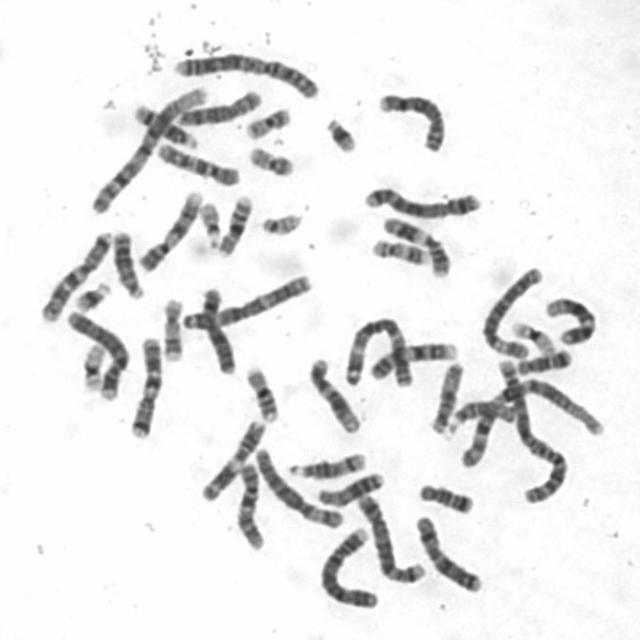A1: (85, 78, 212, 215), (452, 371, 608, 470)
A2: (492, 356, 572, 507), (170, 47, 324, 100)
A3: (179, 267, 316, 332), (339, 310, 415, 390)
B4: (62, 304, 132, 402), (316, 521, 382, 611)
B5: (352, 488, 428, 586), (360, 180, 484, 220)
C10: (149, 136, 242, 187), (231, 454, 269, 552)
C11: (196, 414, 270, 503), (379, 210, 455, 280)
C12: (304, 352, 363, 434), (539, 290, 599, 346)
C6: (249, 442, 346, 531), (476, 260, 546, 360)
C7: (36, 224, 116, 324), (124, 330, 166, 440)
C8: (373, 87, 448, 154), (173, 84, 264, 126)
C9: (134, 183, 207, 274), (366, 336, 461, 381)
D13: (312, 466, 386, 508), (108, 224, 148, 300)
D14: (129, 98, 202, 150), (284, 446, 370, 480)
D15: (426, 356, 467, 436), (443, 396, 518, 430)
E16: (214, 189, 256, 259), (241, 361, 282, 424)
E17: (368, 233, 432, 267), (158, 292, 186, 363)
E18: (413, 476, 478, 516), (512, 344, 574, 377)
F19: (507, 316, 557, 356), (77, 337, 108, 392)
F20: (241, 101, 294, 141), (244, 140, 297, 178)
G21: (320, 111, 360, 155), (70, 275, 114, 314)
G22: (194, 195, 224, 248), (256, 206, 306, 237)
X: (409, 509, 485, 594), (197, 280, 240, 376)
